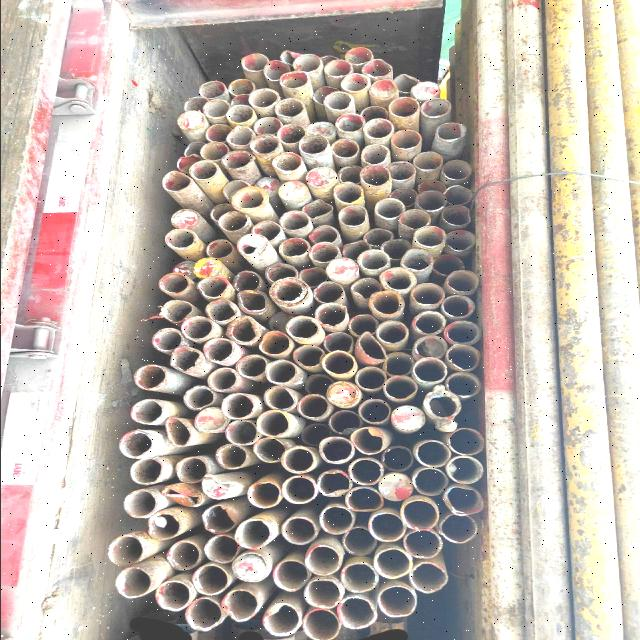pipe: (262, 600, 304, 638), (336, 594, 378, 630), (112, 563, 154, 599), (183, 598, 225, 632), (410, 560, 450, 594), (439, 513, 481, 545), (118, 490, 162, 520), (380, 584, 416, 620), (273, 559, 309, 595), (303, 576, 341, 610), (280, 514, 318, 548), (106, 533, 144, 567), (443, 484, 483, 516), (233, 518, 273, 550), (166, 538, 203, 572), (154, 579, 192, 612), (375, 544, 409, 580), (246, 475, 280, 511), (224, 589, 260, 623), (422, 390, 460, 422), (232, 553, 272, 583), (449, 423, 484, 457), (307, 543, 341, 577), (281, 472, 315, 506), (273, 276, 309, 308), (341, 561, 377, 593), (302, 608, 338, 640), (130, 455, 166, 487), (445, 342, 483, 372), (400, 500, 438, 530), (202, 504, 240, 534), (369, 511, 403, 544), (344, 525, 378, 558), (403, 528, 438, 560), (258, 407, 294, 438), (448, 454, 482, 486), (351, 424, 385, 456), (204, 532, 238, 564), (132, 363, 168, 393), (446, 370, 482, 400), (413, 438, 449, 468), (412, 466, 448, 496), (345, 486, 385, 513), (120, 429, 156, 459), (408, 281, 446, 309), (444, 318, 482, 346), (281, 446, 319, 474), (382, 372, 417, 402), (316, 469, 351, 499), (146, 511, 182, 540), (408, 334, 446, 361), (392, 401, 424, 433), (356, 332, 388, 364), (350, 456, 384, 486), (194, 565, 228, 595), (194, 274, 230, 302), (444, 267, 480, 295), (368, 290, 404, 318), (317, 436, 353, 464), (173, 457, 210, 484), (228, 314, 260, 345), (322, 505, 354, 536), (379, 472, 412, 502), (358, 398, 391, 428), (329, 380, 362, 410), (204, 473, 242, 499), (126, 399, 164, 425), (328, 407, 362, 436), (439, 203, 474, 231), (412, 357, 447, 385), (155, 299, 195, 323), (219, 420, 259, 444), (378, 265, 412, 293), (254, 436, 288, 464), (282, 314, 318, 340), (180, 314, 212, 343), (354, 365, 386, 394), (171, 345, 205, 372), (180, 384, 214, 411), (194, 403, 224, 433), (444, 228, 476, 256), (314, 301, 346, 329), (258, 328, 290, 356), (321, 349, 353, 377), (233, 185, 266, 212), (412, 310, 446, 336), (298, 420, 332, 446), (160, 487, 204, 507), (162, 227, 198, 251), (204, 300, 240, 324), (150, 326, 182, 353), (165, 416, 192, 448), (398, 206, 431, 232), (375, 320, 409, 345), (379, 237, 414, 261), (431, 252, 466, 276), (202, 336, 232, 364), (346, 310, 376, 338), (292, 341, 322, 369), (298, 393, 328, 421), (158, 271, 190, 297), (356, 248, 388, 274), (443, 293, 475, 319), (264, 359, 296, 385), (236, 350, 262, 382), (391, 129, 425, 153), (216, 210, 250, 234), (264, 262, 298, 286), (222, 395, 256, 419), (214, 446, 248, 470), (278, 178, 308, 205), (434, 121, 469, 144), (232, 266, 260, 294), (237, 289, 265, 317), (383, 444, 411, 472), (363, 116, 393, 142), (388, 160, 418, 186), (388, 182, 418, 208), (339, 203, 369, 229), (328, 256, 358, 282), (208, 366, 238, 392), (276, 210, 308, 234), (414, 224, 446, 248), (400, 247, 432, 271), (160, 169, 190, 194), (387, 97, 419, 120), (168, 207, 200, 230), (310, 162, 338, 188), (265, 308, 293, 334), (324, 330, 352, 356), (278, 68, 308, 92), (176, 109, 206, 133), (360, 163, 390, 187), (374, 196, 404, 220), (302, 197, 332, 221), (238, 233, 268, 257), (350, 276, 380, 300), (302, 372, 332, 396), (202, 120, 234, 142), (414, 189, 446, 211), (314, 282, 346, 304), (311, 85, 341, 108), (226, 124, 253, 149), (362, 141, 389, 166), (332, 137, 359, 162), (293, 50, 321, 74), (250, 88, 278, 112), (250, 218, 278, 242), (172, 258, 200, 282), (384, 352, 412, 376), (323, 90, 353, 112), (422, 98, 452, 120), (275, 98, 305, 120), (272, 150, 302, 172), (416, 177, 446, 199), (364, 225, 394, 247), (310, 242, 340, 264), (362, 103, 389, 127), (177, 150, 204, 174), (443, 158, 471, 181), (220, 177, 248, 200), (264, 390, 296, 410), (265, 59, 291, 83), (336, 112, 362, 136), (200, 76, 226, 100), (277, 121, 303, 145), (208, 198, 234, 222), (300, 265, 326, 289), (223, 149, 251, 171), (300, 135, 328, 157), (414, 78, 439, 102), (304, 120, 334, 140), (190, 160, 220, 180), (414, 153, 444, 173), (207, 238, 234, 260), (324, 59, 352, 80), (282, 235, 306, 259), (370, 78, 396, 100), (341, 71, 367, 93), (204, 98, 230, 120), (342, 239, 369, 260), (240, 53, 268, 73), (226, 78, 254, 98), (198, 142, 226, 162), (259, 173, 279, 201), (444, 185, 472, 205), (310, 224, 338, 244), (254, 115, 280, 136), (228, 106, 255, 126), (192, 257, 216, 279), (365, 58, 391, 78), (346, 46, 372, 66), (182, 137, 208, 157), (248, 138, 276, 156), (338, 164, 362, 184), (396, 73, 416, 95), (183, 94, 206, 112), (230, 92, 252, 109), (280, 48, 300, 64)
